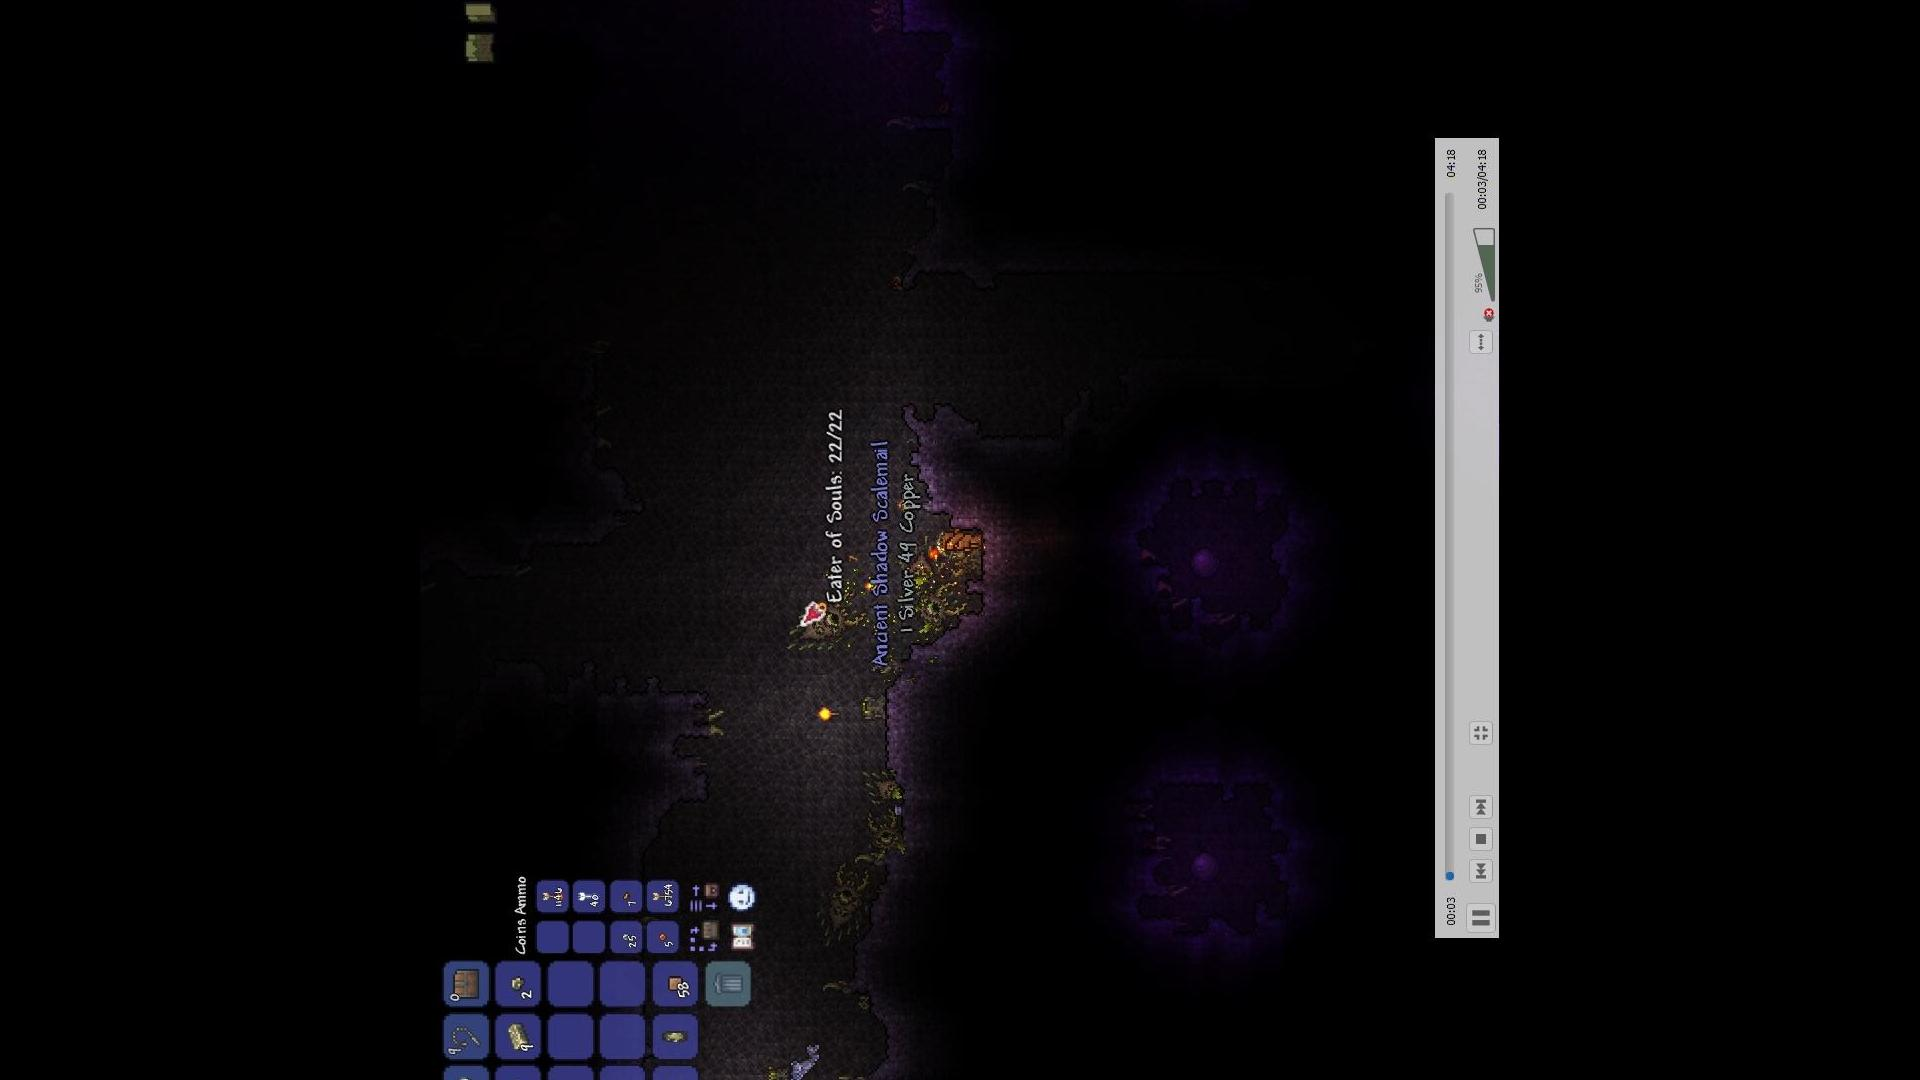chest: (451, 964, 483, 1000)
crimera: (779, 589, 860, 653)
